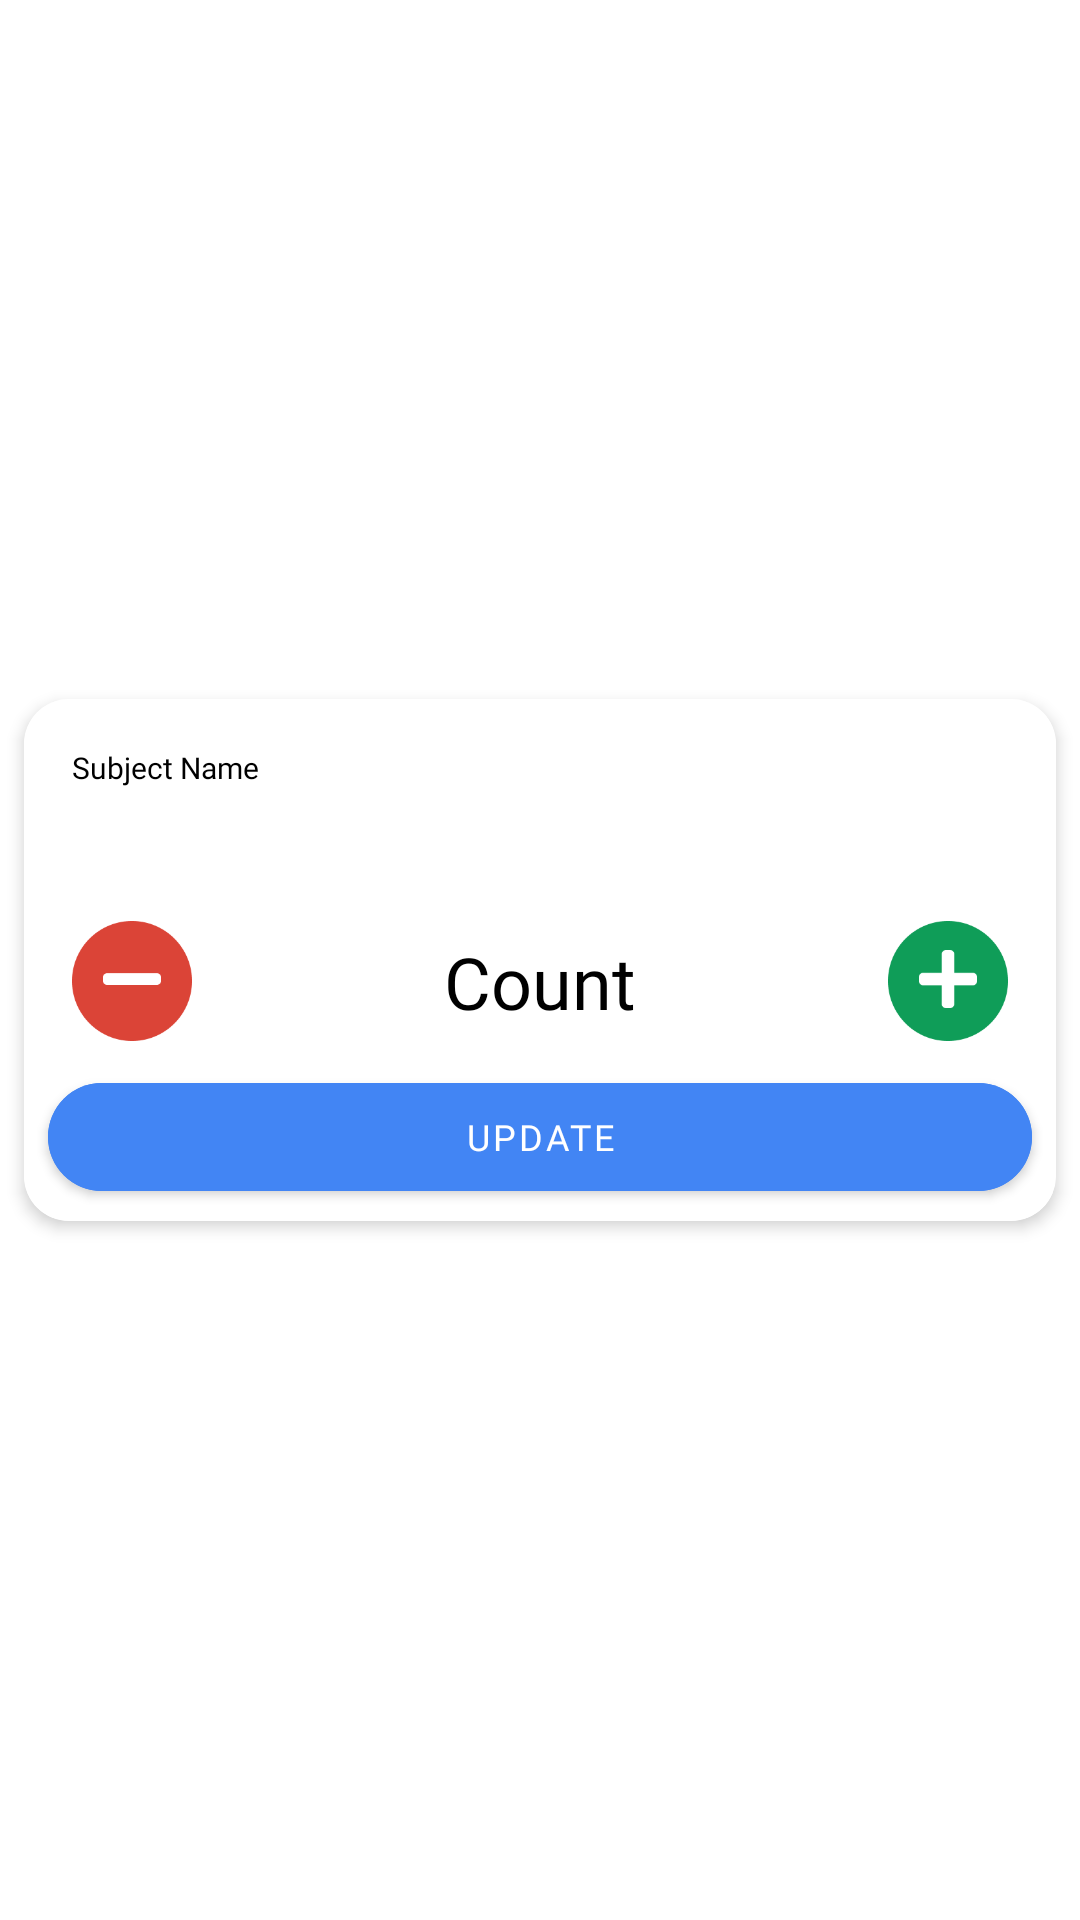

Named icons in this screenshot (1080px×1920px) and their bounding boxes, (x1, y1, x2, y2):
minus: (72, 921, 192, 1041)
plus: (888, 921, 1008, 1041)
